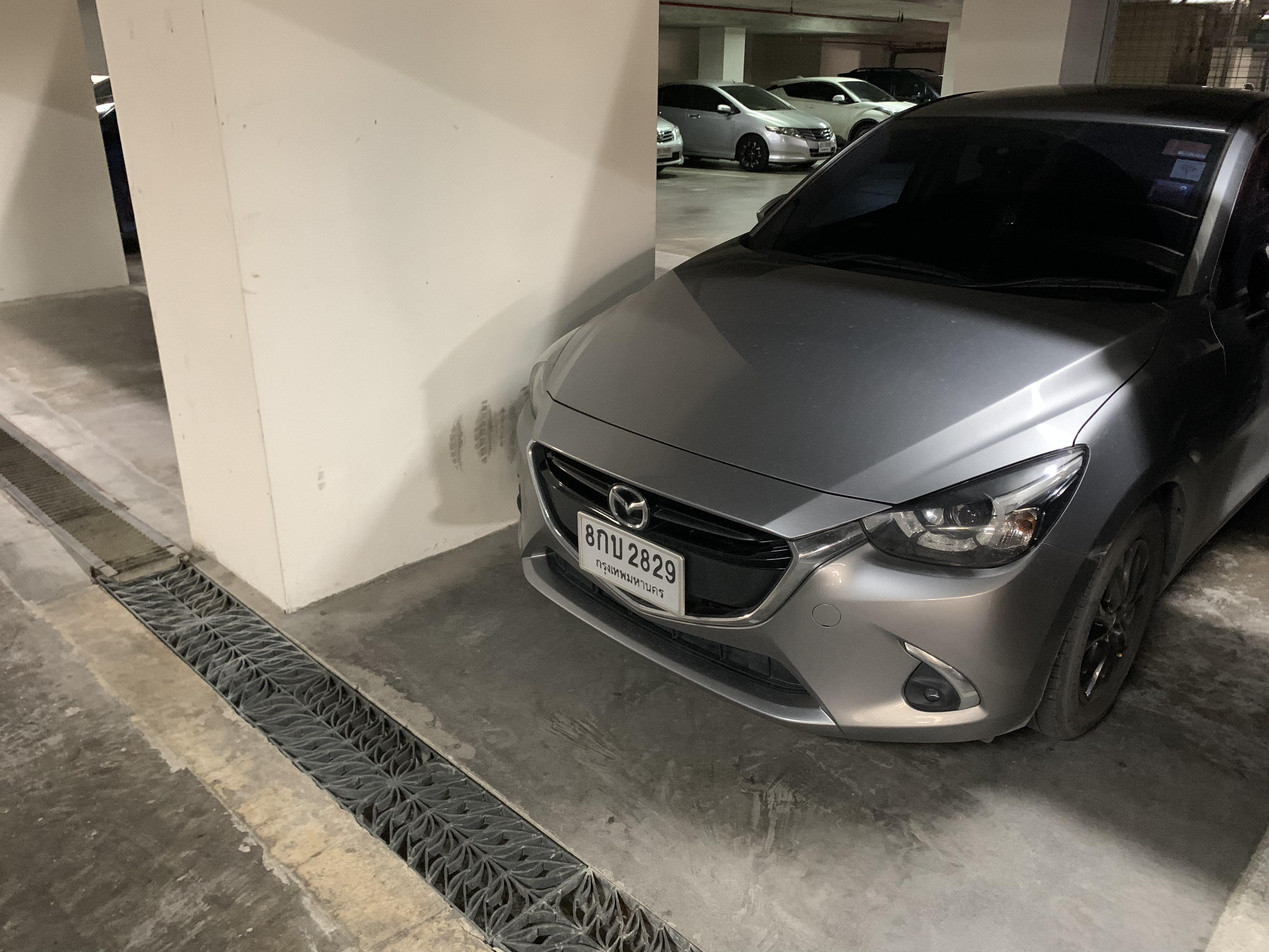license-plate: (572, 507, 688, 623)
